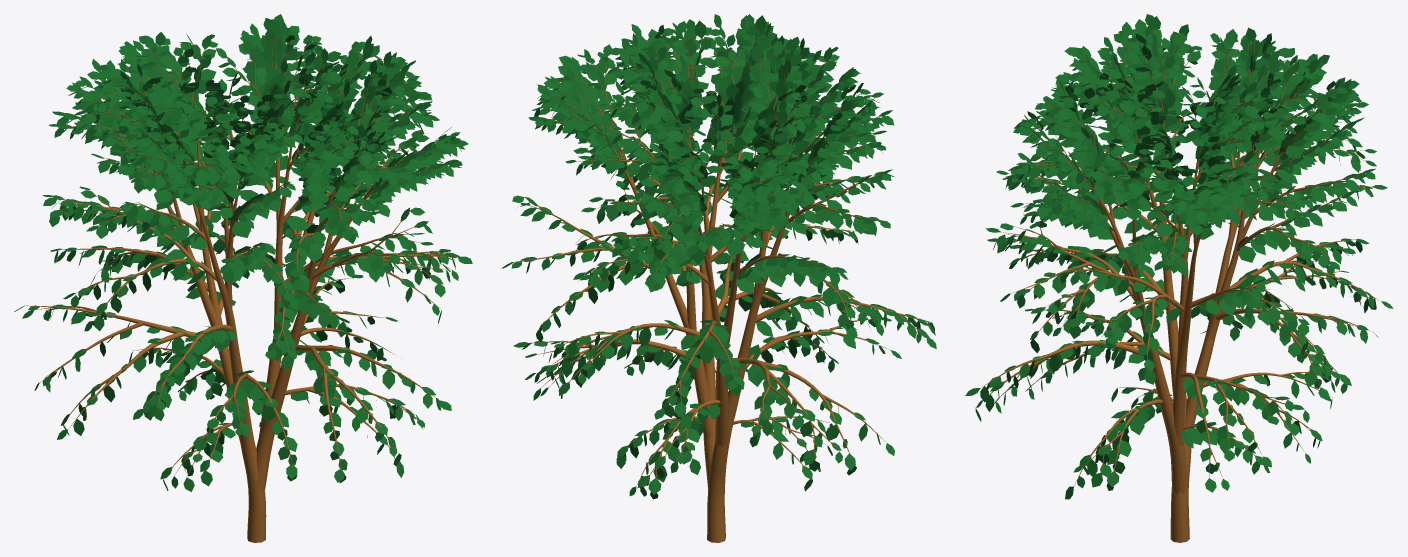
The model's file is tree.glb.
3 views of the same model, side by side, from view 1: azimuth 30°, elevation 25°; view 2: azimuth 150°, elevation 25°; view 3: azimuth 270°, elevation 25° (orthographic).
Visible parts, largest first — view 1: tree; view 2: tree; view 3: tree.
Part boxes in pixels (<box>): tree: <box>14,14,472,542</box>; tree: <box>501,14,936,542</box>; tree: <box>965,14,1393,542</box>.
Size of the model in its own units: 8.8 by 11.55 by 9.2.
